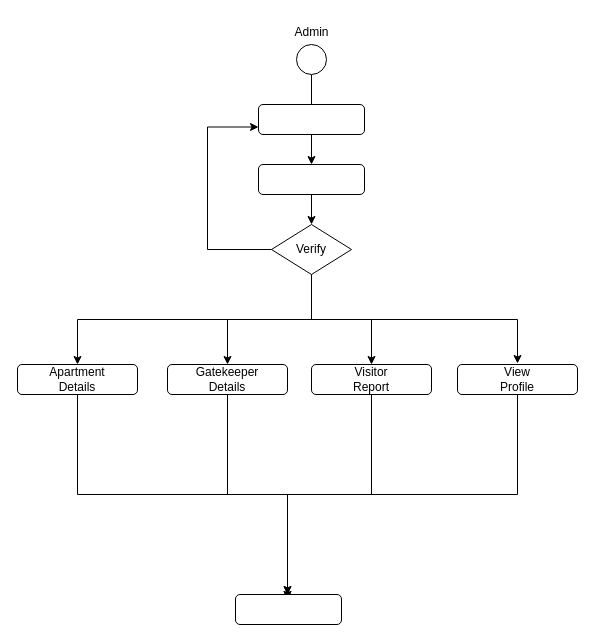
Some shapes in this 595 by 642 pixel diagram are drawn without their labels. The shapes that lost their labels are listed below. From the top down, each one's box as (x1, y1, x2, y2) in pixels, then its label:
(258, 104, 364, 134): Log in
(258, 164, 364, 194): Authentication
(234, 594, 342, 624): Log Out
